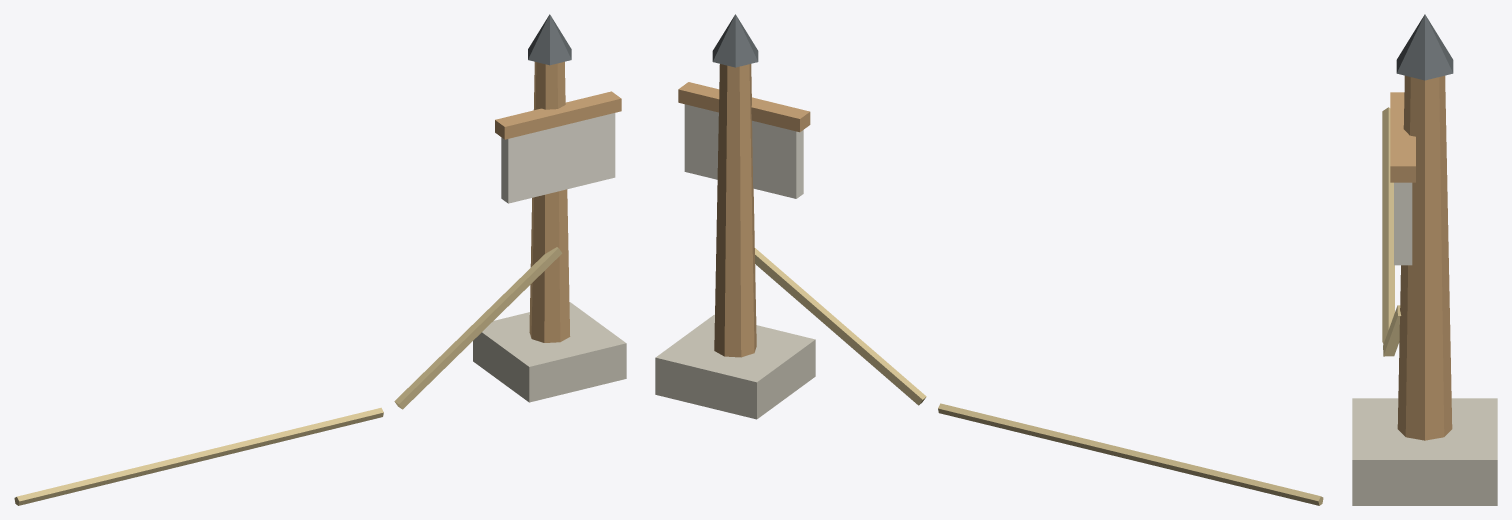
Rendered from archery-line-marker.glb.
3 views of the same model, side by side, from view 1: azimuth 30°, elevation 25°; view 2: azimuth 150°, elevation 25°; view 3: azimuth 270°, elevation 25° (orthographic). The views are drawn at different scales.
Visible parts, largest first — view 1: archery-line-marker; view 2: archery-line-marker; view 3: archery-line-marker.
Part boxes in pixels (bbox=[...]): archery-line-marker: bbox=[14, 14, 626, 505]; archery-line-marker: bbox=[655, 14, 1323, 505]; archery-line-marker: bbox=[1352, 14, 1497, 505].
Size of the model in its own units: 2.49 by 1.4 by 0.4.
